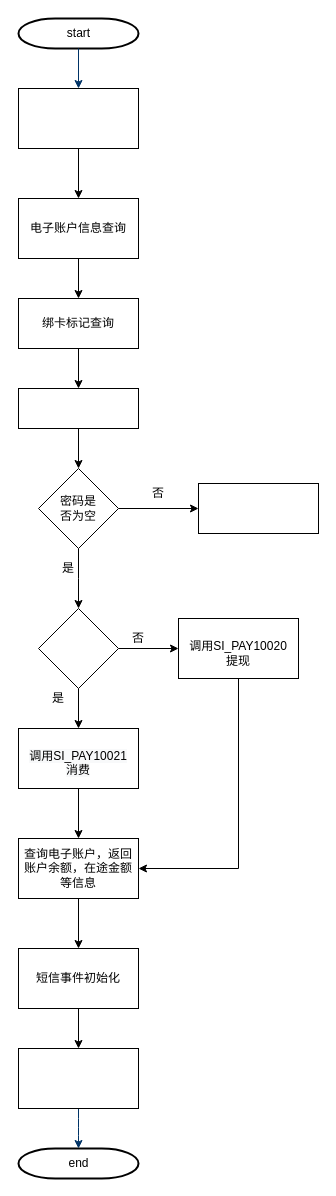
Image size: 336x1196. Some labels were removed from this diagram. Here are the shapes that lost their labels. From the top down, the centre of each, then its label:
pixel 78 118: 交易前处理
pixel 78 408: 生成流水号
pixel 258 508: 调用核心验证密码
pixel 78 648: 是否为电子账户消费
pixel 78 1078: 交易后处理
